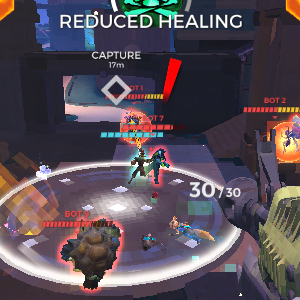model: (48, 217, 121, 291), (275, 113, 299, 165), (123, 111, 148, 142), (148, 145, 167, 182)
